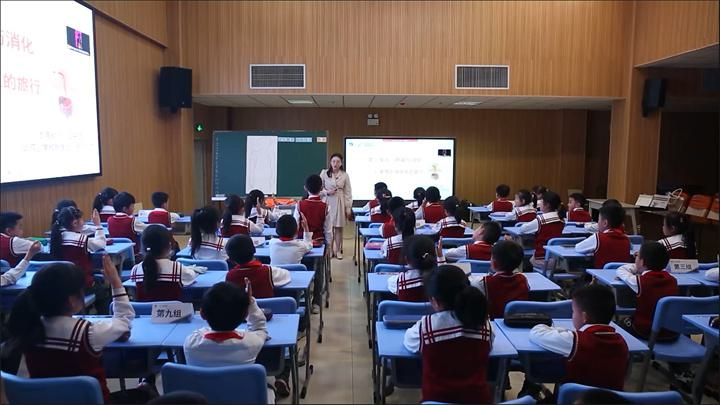hands-up: (37, 251, 129, 364), (181, 276, 274, 379), (54, 208, 112, 265), (396, 226, 451, 286), (481, 237, 534, 298), (273, 213, 320, 270), (226, 197, 267, 236), (246, 186, 283, 217)
listen: (421, 269, 502, 374), (218, 236, 293, 299), (132, 224, 193, 286), (588, 203, 626, 259), (391, 208, 429, 259), (537, 194, 566, 246), (562, 187, 594, 222), (380, 193, 405, 232), (419, 186, 442, 222), (366, 190, 392, 216)
stand: (294, 173, 334, 251)
